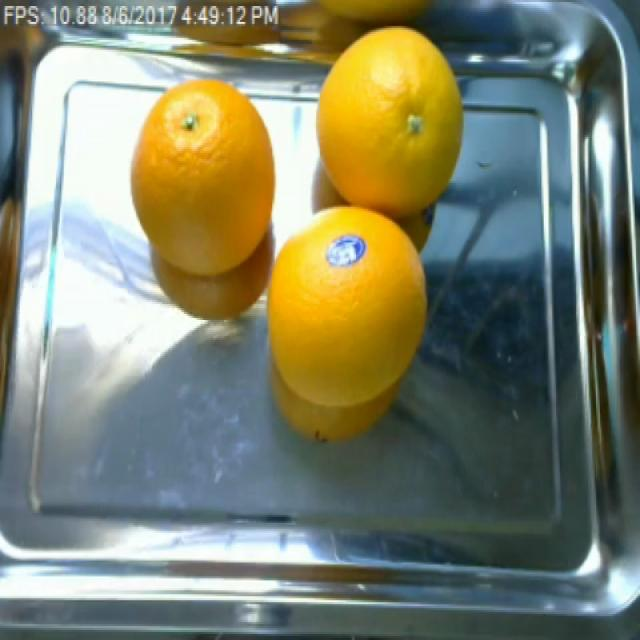Fruit: (115, 66, 296, 286)
